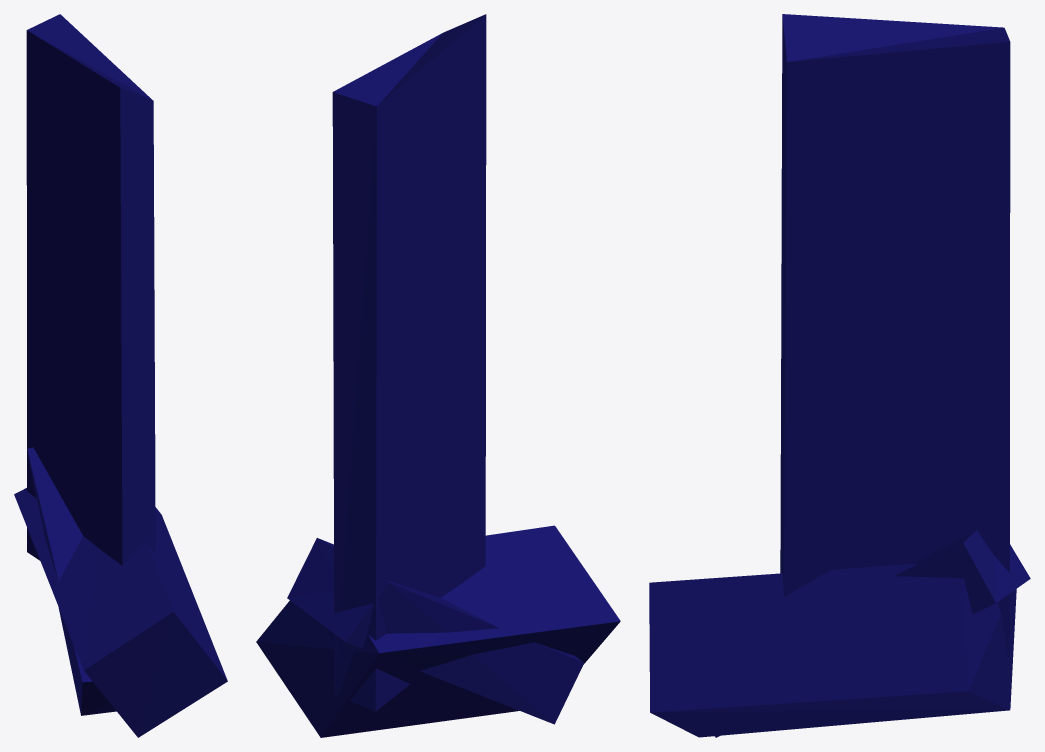
3 renders of one model, left to right at view 1: azimuth 30°, elevation 25°; view 2: azimuth 150°, elevation 25°; view 3: azimuth 270°, elevation 25°, orthographic. The views are drawn at different scales.
Parts seen in each view (by area): view 1: 295_Cube.1204; view 2: 295_Cube.1204; view 3: 295_Cube.1204.
Boxes of the visible parts, x1,y1,x2,y2 form: 295_Cube.1204: [14, 14, 227, 737]; 295_Cube.1204: [256, 14, 620, 737]; 295_Cube.1204: [649, 14, 1030, 737].
Bounding box in the file's own units: 4.73 × 14.27 × 6.73.
